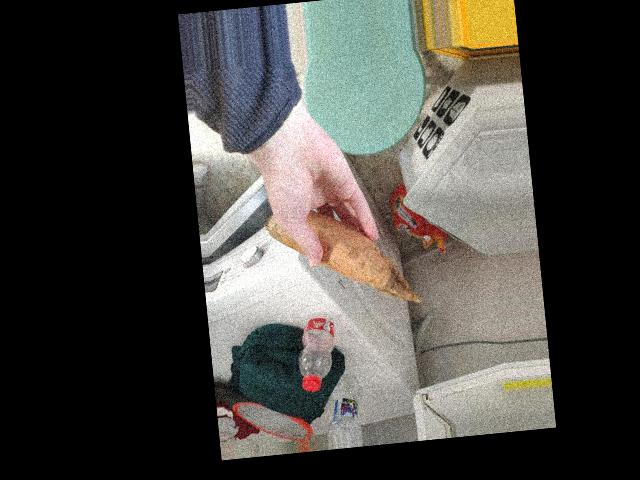sweet_potato: (269, 191, 369, 280)
